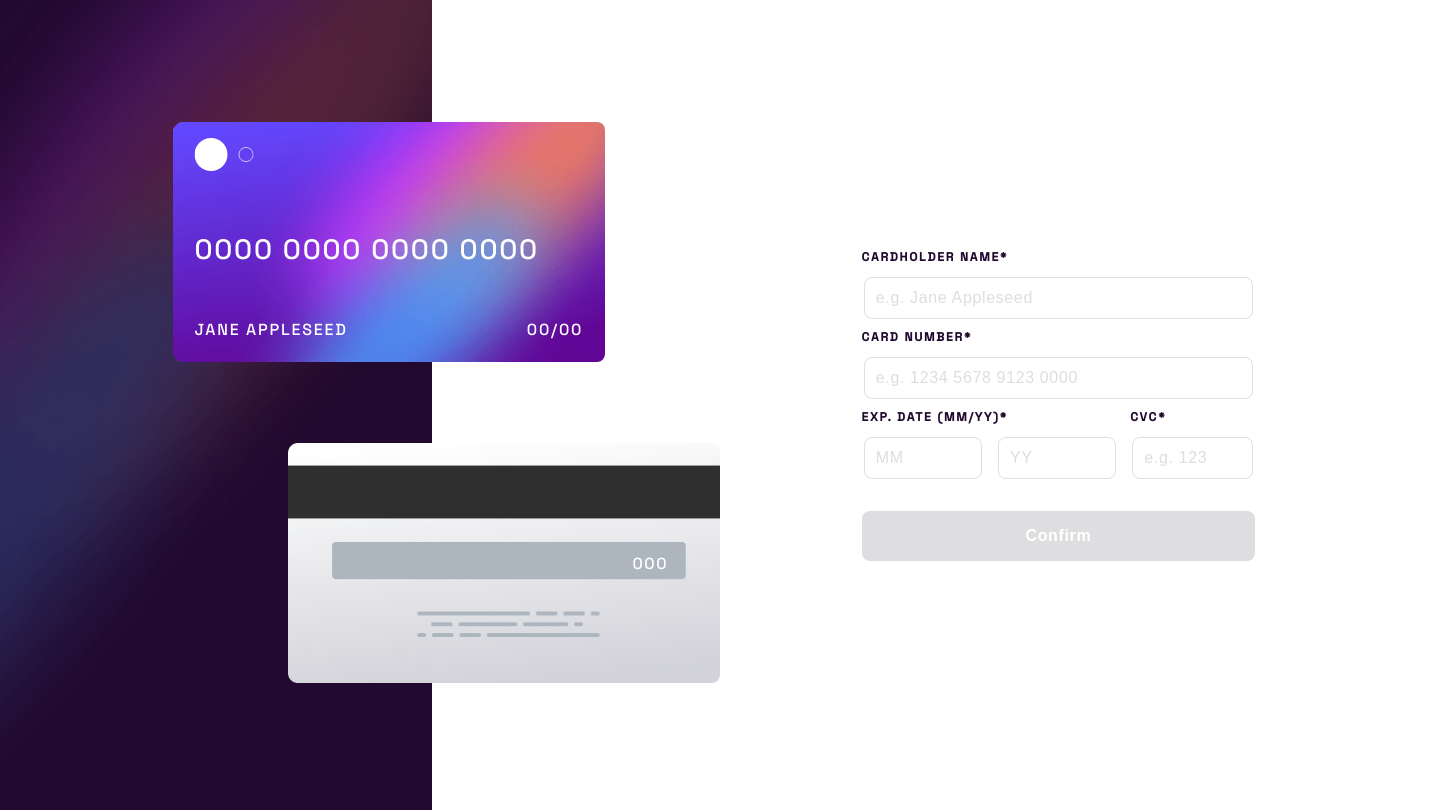
validate card month expiry input field › typed expiry date displayed in front card
This screenshot has width=1440, height=810.
In the field named "expiry month": (923, 458) 864,437 -> 982,479, type "07"
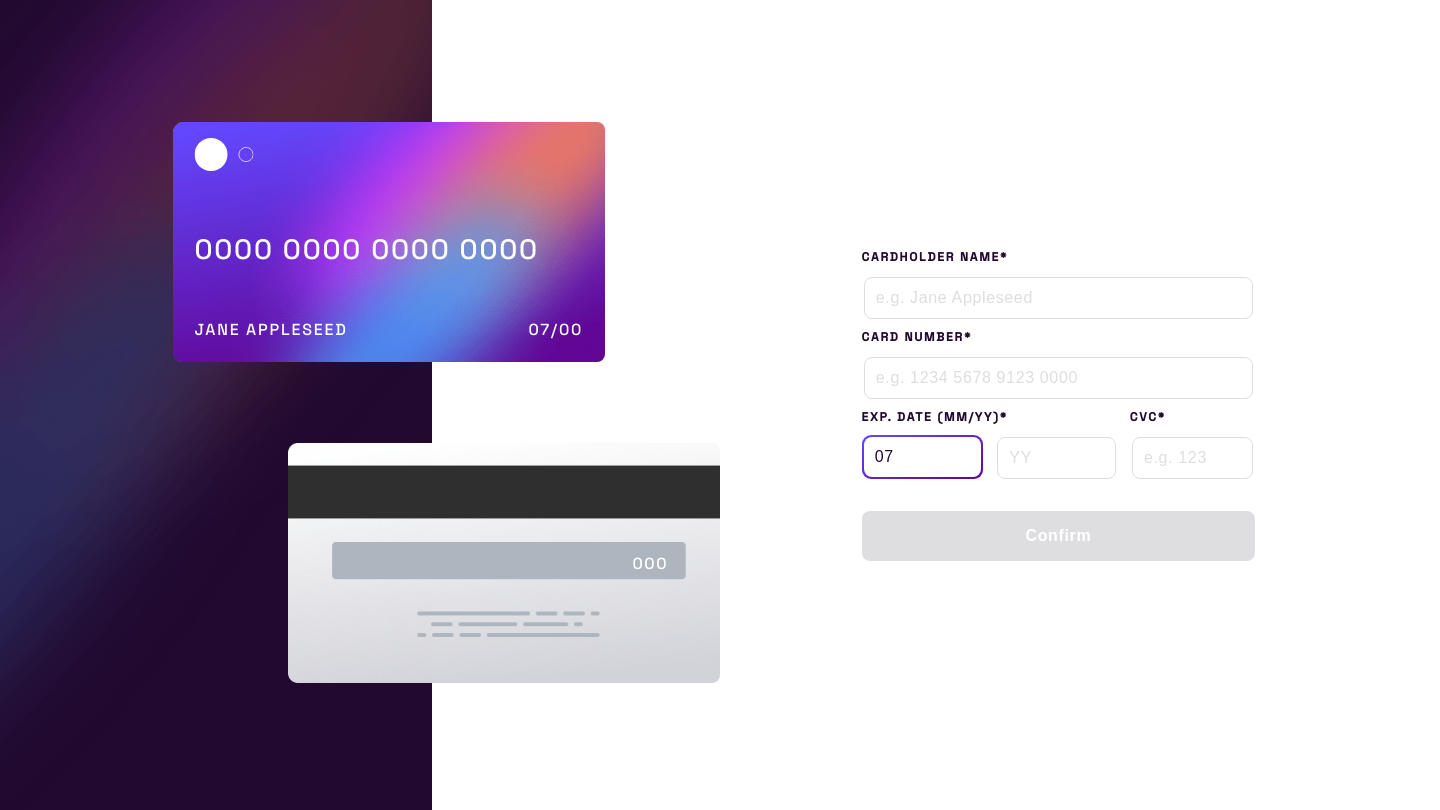
In the field named "expiry year": (1056, 458) 997,437 -> 1116,479, type "24"
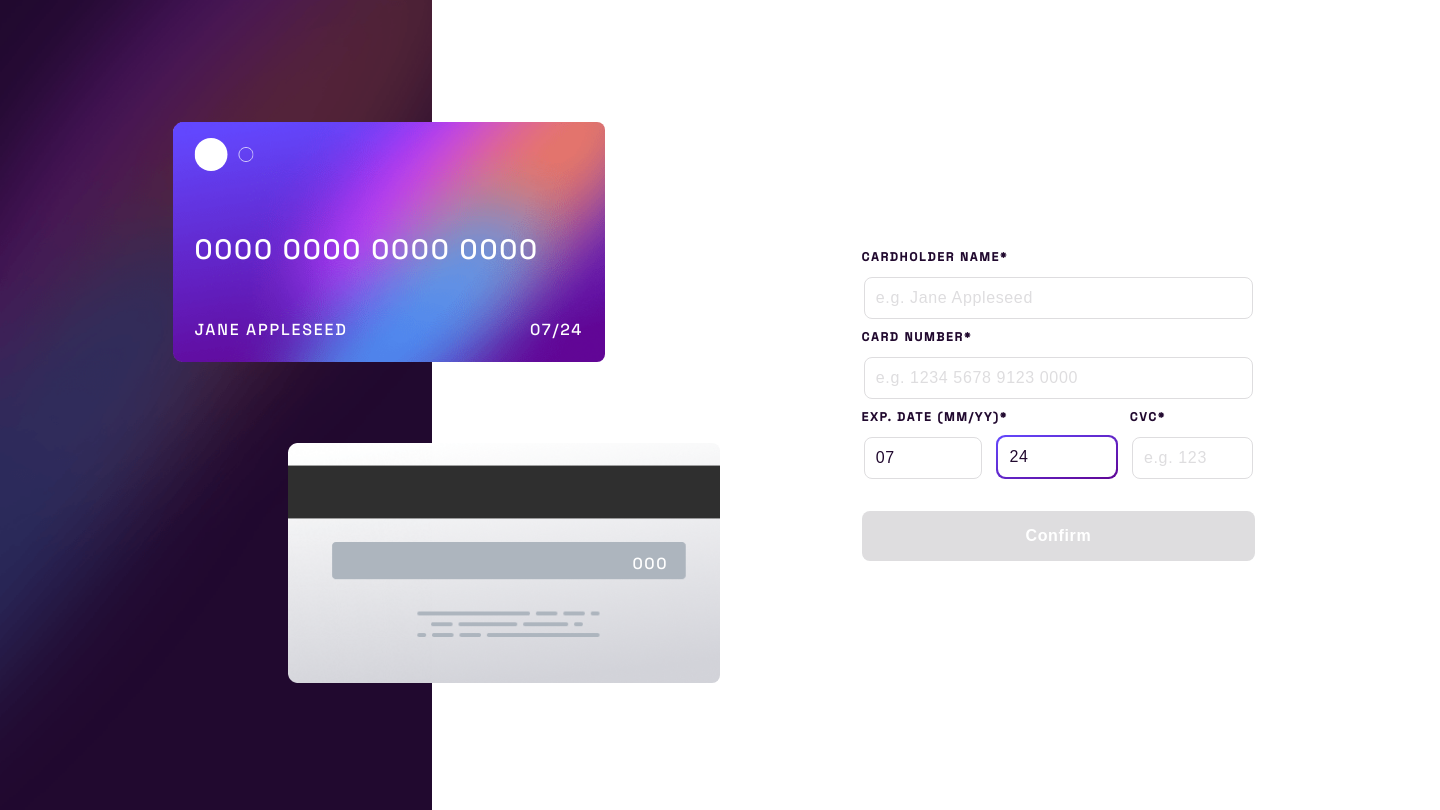
Check: the text with test id "card-expiry-date" reads "07/24", box 530,319 -> 583,340
